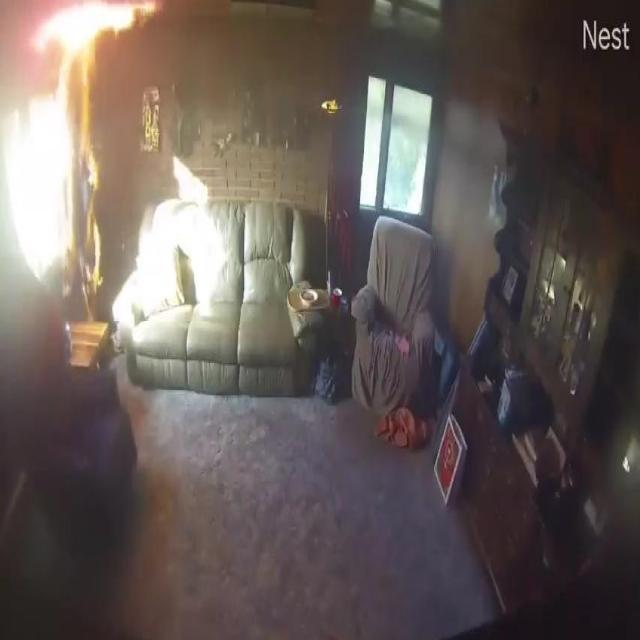smoke: (27, 0, 162, 70), (76, 74, 107, 312)
